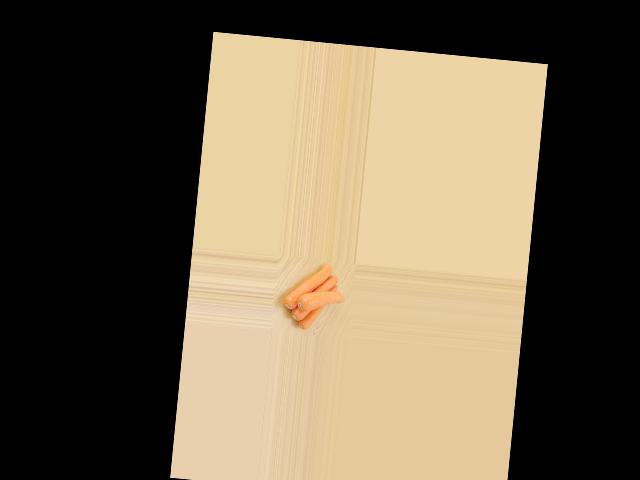carrot: (295, 293, 333, 336)
